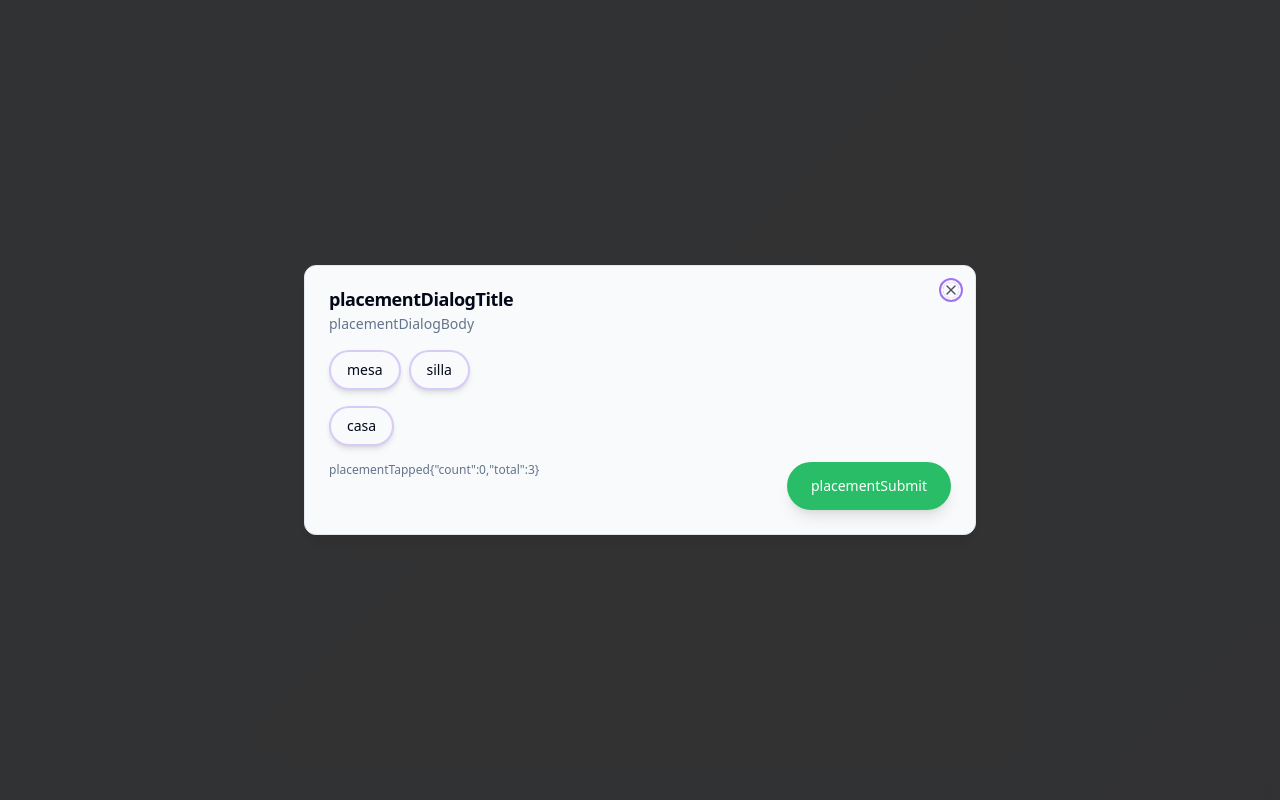
Scenario: PlacementCheck › taps words and submits only the ones the learner knows
Later steps or results of the test are not shown.
Expected: the element with test id "placement-words" is shown, 329,350 -> 470,446
Click the button "mesa": {"x": 365, "y": 370} 329,350 -> 400,390
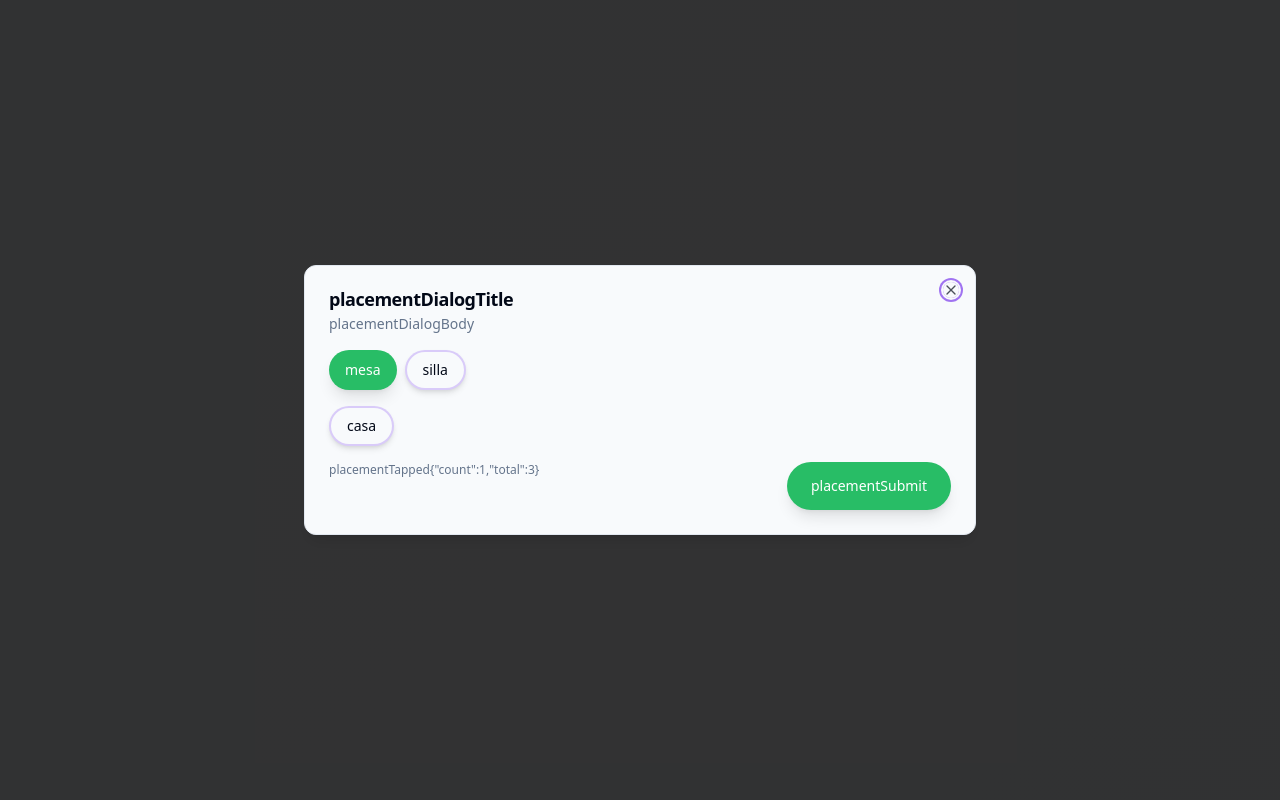
Click the button "casa": {"x": 362, "y": 426} 329,406 -> 394,446
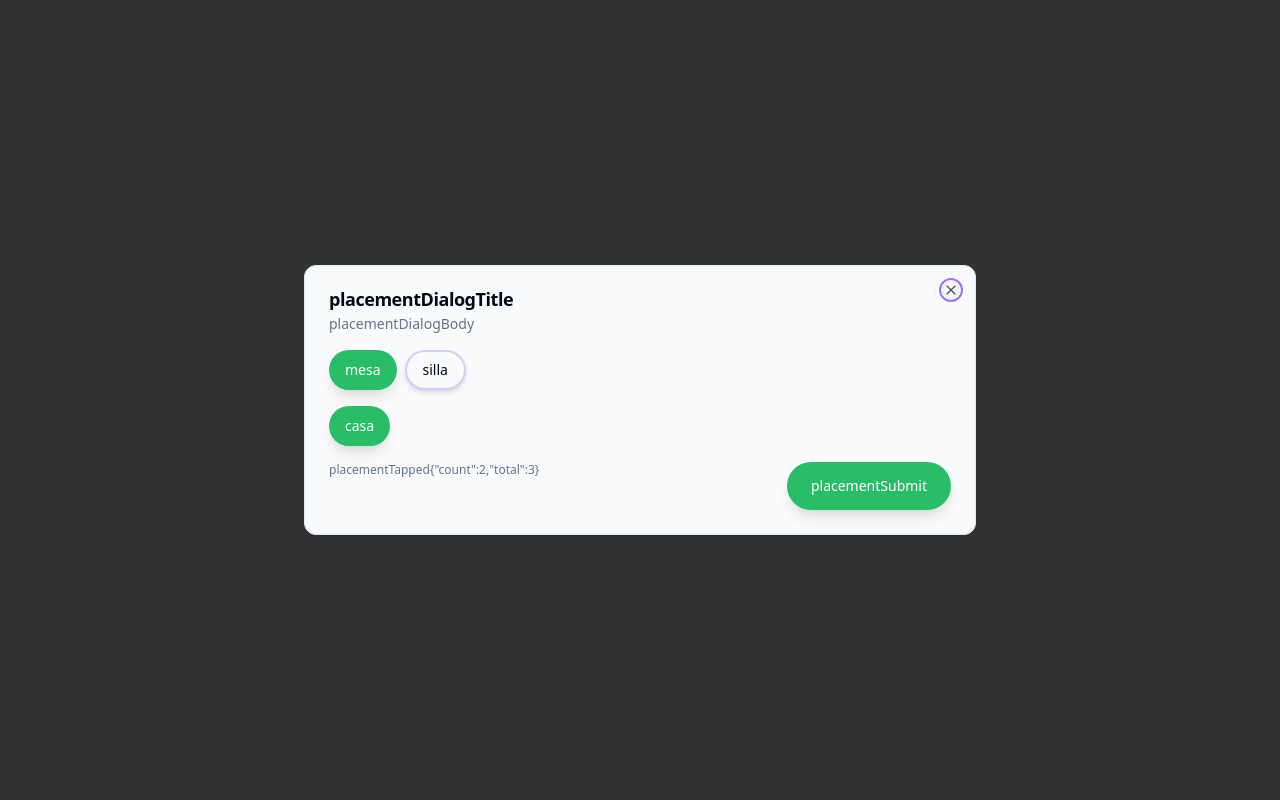
Expected: the button "mesa" is pressed, 329,350 -> 396,390
Expected: the button "casa" is pressed, 329,406 -> 390,446
